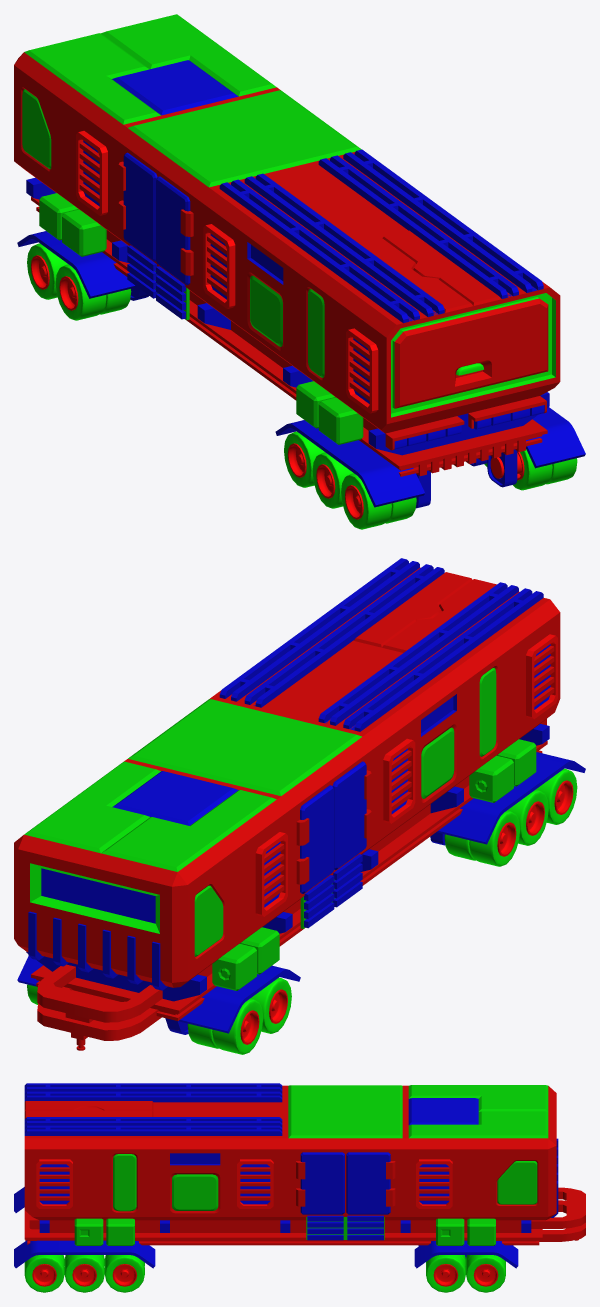
The model's file is SM_Truck_Trailer_02.fbx.
3 views of the same model, one above another, from view 1: azimuth 30°, elevation 25°; view 2: azimuth 150°, elevation 25°; view 3: azimuth 270°, elevation 25° (orthographic). The views are drawn at different scales.
Parts seen in each view (by area): view 1: Truck_Trailer_02, Truck_02_Wheel_05, Truck_02_Wheel_02, Truck_02_Wheel_04, Truck_02_Wheel_03, Truck_02_Wheel_01; view 2: Truck_Trailer_02, Truck_02_Wheel_01, Truck_02_Wheel_03, Truck_02_Wheel_02, Truck_02_Wheel_04, Truck_02_Wheel_05; view 3: Truck_Trailer_02, Truck_02_Wheel_04, Truck_02_Wheel_05, Truck_02_Wheel_03, Truck_02_Wheel_01, Truck_02_Wheel_02.
Boxes of the visible parts, box(x1,y1,x2,y2) form: Truck_Trailer_02: box(14, 14, 585, 508); Truck_02_Wheel_05: box(341, 449, 577, 529); Truck_02_Wheel_02: box(55, 264, 131, 320); Truck_02_Wheel_04: box(312, 452, 487, 508); Truck_02_Wheel_03: box(284, 431, 324, 487); Truck_02_Wheel_01: box(27, 243, 67, 299); Truck_Trailer_02: box(14, 558, 585, 1050); Truck_02_Wheel_01: box(27, 984, 263, 1054); Truck_02_Wheel_03: box(444, 810, 520, 866); Truck_02_Wheel_02: box(250, 977, 291, 1033); Truck_02_Wheel_04: box(508, 789, 548, 845); Truck_02_Wheel_05: box(536, 768, 577, 824); Truck_Trailer_02: box(14, 1083, 585, 1268); Truck_02_Wheel_04: box(64, 1255, 104, 1292); Truck_02_Wheel_05: box(24, 1255, 64, 1292); Truck_02_Wheel_03: box(104, 1255, 144, 1292); Truck_02_Wheel_01: box(466, 1255, 505, 1292); Truck_02_Wheel_02: box(426, 1255, 465, 1292).
Size of the model in its own units: 854 by 826 by 2850.
